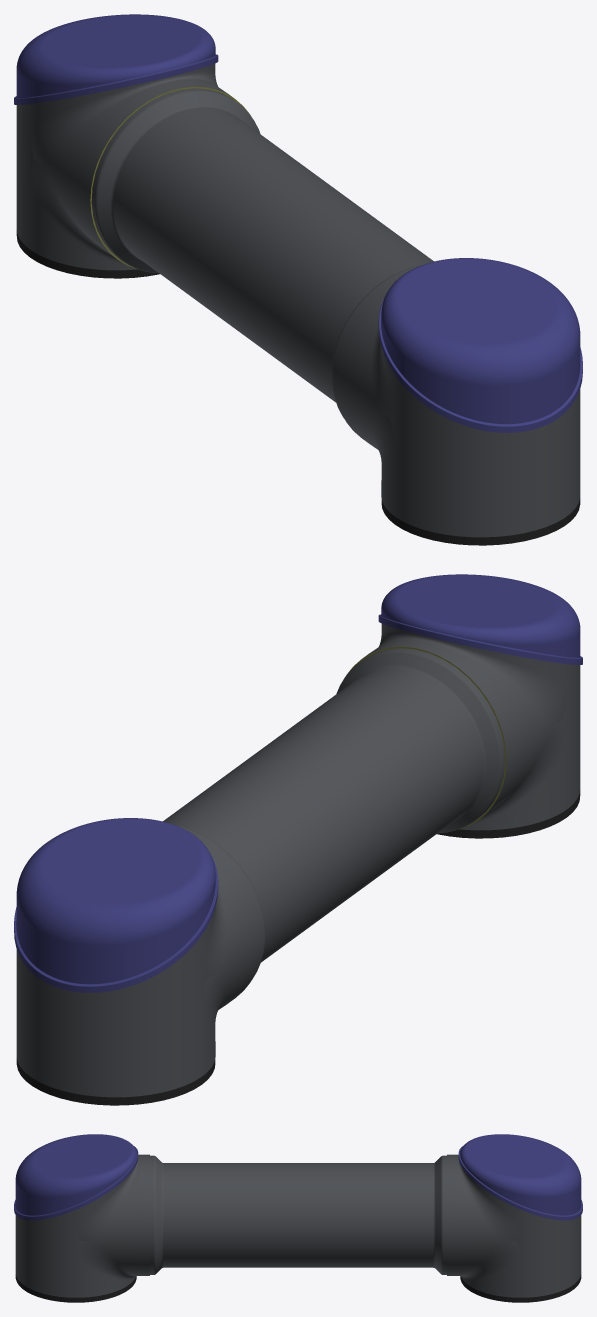
File: UpperArm.dae
3 views of the same model, one above another, from view 1: azimuth 30°, elevation 25°; view 2: azimuth 150°, elevation 25°; view 3: azimuth 270°, elevation 25° (orthographic). The views are drawn at different scales.
Visible parts, largest first — view 1: Actor3, Actor0, Actor4, Actor2, Actor1; view 2: Actor3, Actor2, Actor1, Actor0, Actor4; view 3: Actor3, Actor0, Actor2, Actor4, Actor1.
Boxes of the visible parts, x1,y1,x2,y2 form: Actor3: (91, 88, 433, 418); Actor0: (334, 272, 580, 545); Actor4: (378, 258, 582, 432); Actor2: (16, 64, 250, 278); Actor1: (14, 14, 218, 104); Actor3: (163, 648, 505, 979); Actor2: (16, 832, 262, 1105); Actor1: (14, 818, 218, 992); Actor0: (346, 624, 580, 838); Actor4: (378, 574, 582, 664); Actor3: (150, 1155, 446, 1274); Actor0: (15, 1154, 149, 1302); Actor2: (447, 1154, 581, 1302); Actor4: (14, 1134, 138, 1220); Actor1: (458, 1134, 582, 1220).
Size of the model in its own units: 0.119 by 0.1337 by 0.544.
